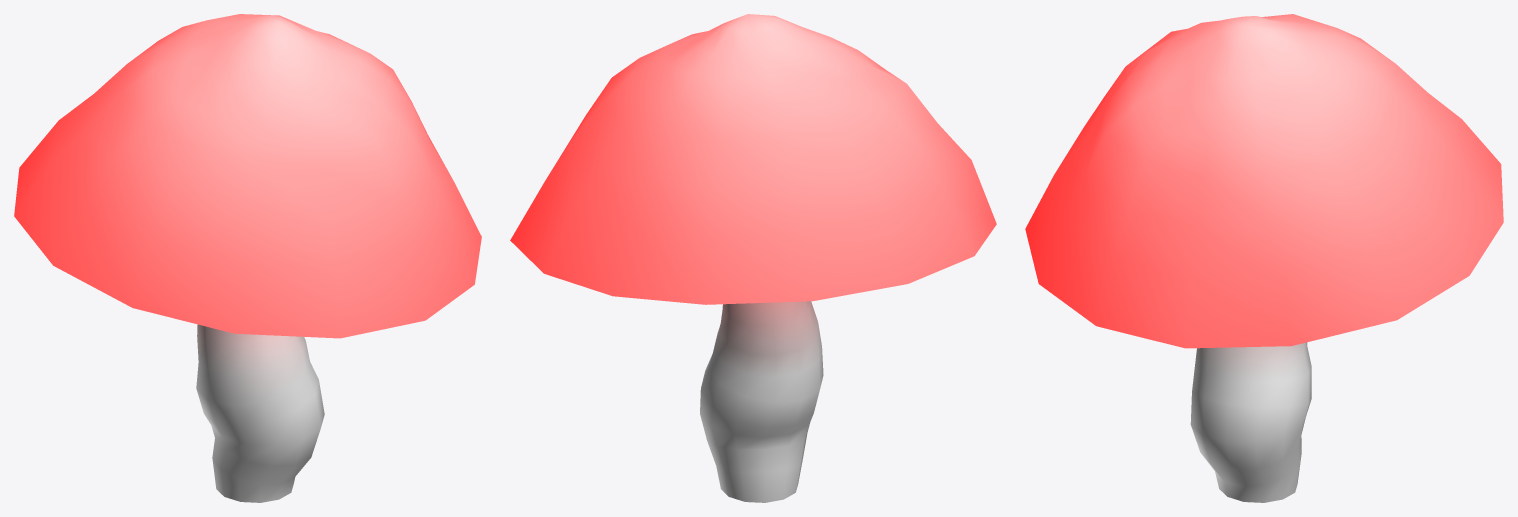
The model's file is mushroom_8.glb.
3 views of the same model, side by side, from view 1: azimuth 30°, elevation 25°; view 2: azimuth 150°, elevation 25°; view 3: azimuth 270°, elevation 25° (orthographic).
Visible parts, largest first — view 1: geo1; view 2: geo1; view 3: geo1.
Boxes of the visible parts, x1,y1,x2,y2 form: geo1: (14, 14, 481, 502); geo1: (510, 14, 996, 502); geo1: (1025, 14, 1503, 502).
Bounding box in the file's own units: 0.2737 × 0.2963 × 0.2731.
